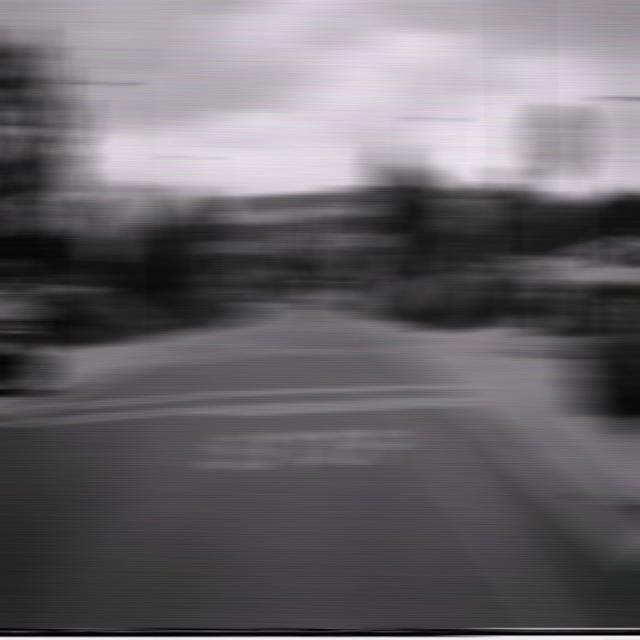stop_sign: (530, 101, 589, 179)
